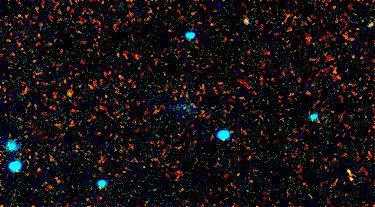star: (56, 79, 86, 109)
